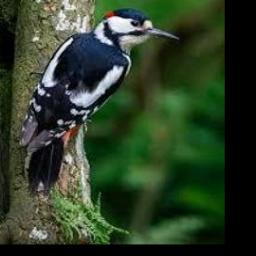Woodpecker: (19, 8, 179, 198)
